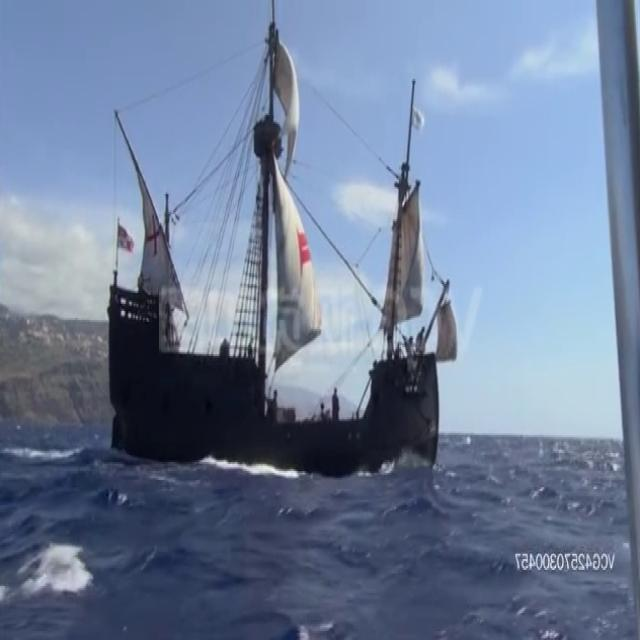sailboat: (102, 7, 462, 478)
